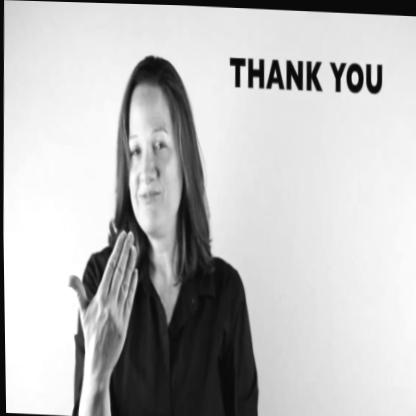ThankYou: (62, 44, 226, 416)
